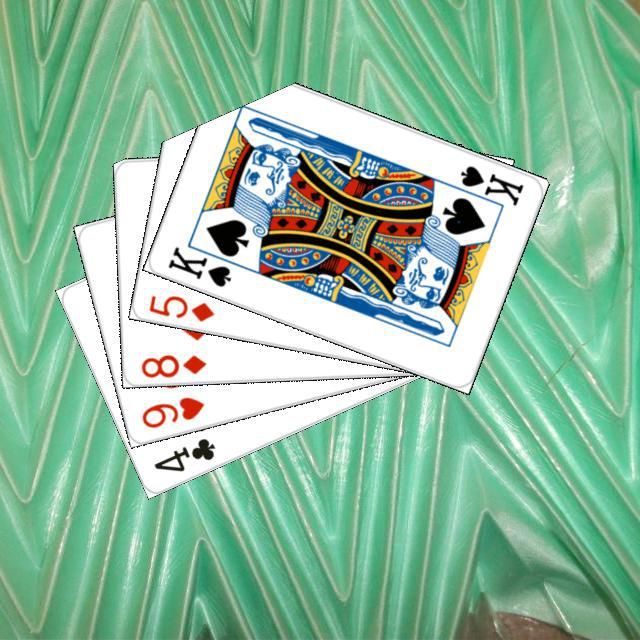4c: (149, 433, 217, 474)
5d: (144, 290, 216, 324)
8d: (136, 349, 208, 379)
9h: (136, 391, 207, 430)
Ks: (445, 160, 525, 209), (163, 241, 233, 289)
